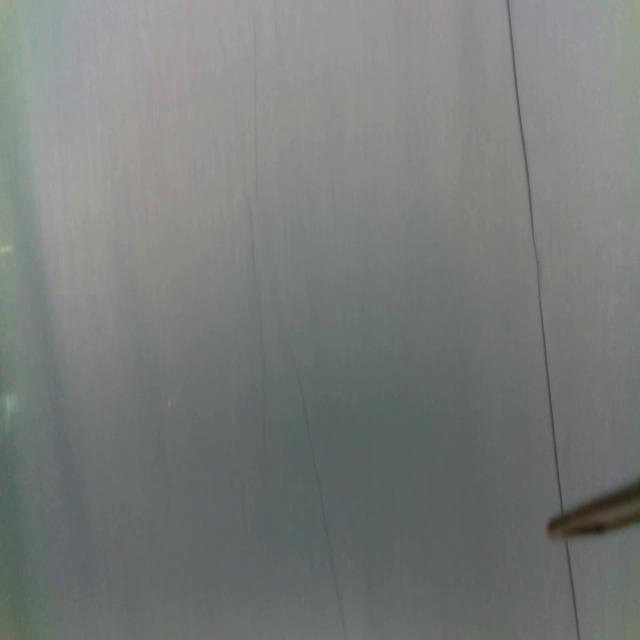crease: (505, 0, 565, 516), (292, 359, 345, 627), (565, 537, 581, 640), (252, 26, 261, 205)
